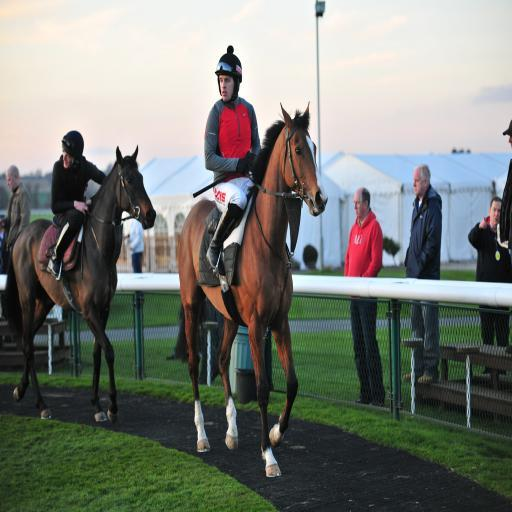Horse: (174, 102, 328, 478), (2, 146, 156, 422)
